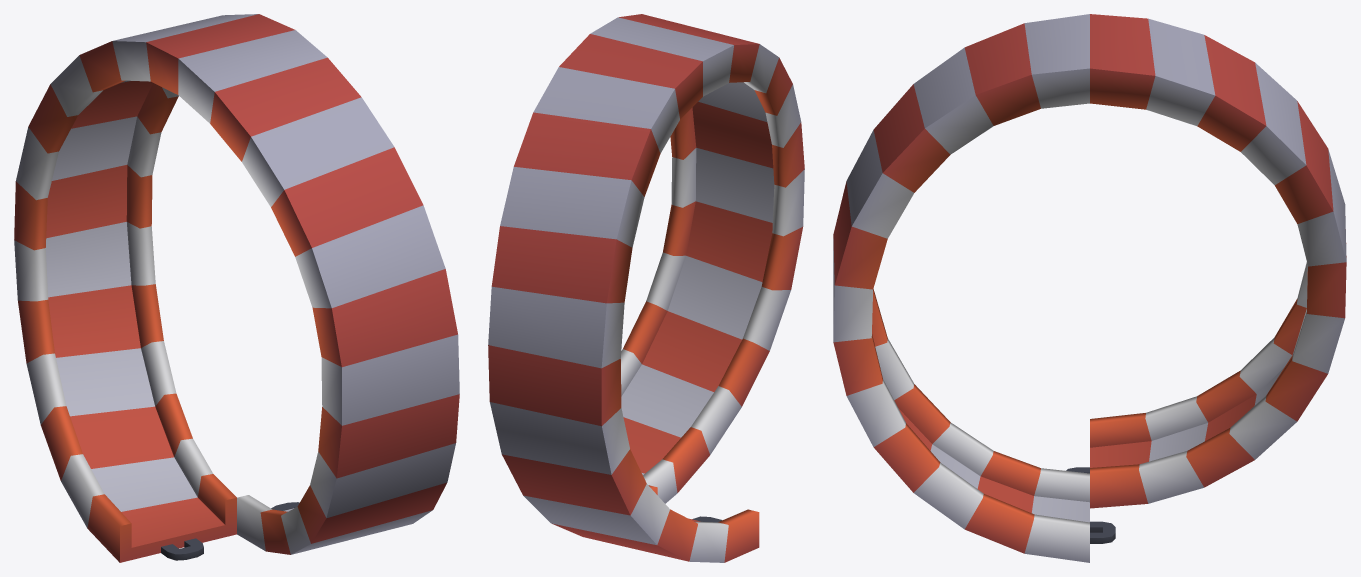
File: track-striped-narrow-looping.glb
3 views of the same model, side by side, from view 1: azimuth 30°, elevation 25°; view 2: azimuth 150°, elevation 25°; view 3: azimuth 270°, elevation 25° (orthographic). The views are drawn at different scales.
Visible parts, largest first — view 1: track-striped-narrow-looping; view 2: track-striped-narrow-looping; view 3: track-striped-narrow-looping.
Boxes of the visible parts, x1,y1,x2,y2 form: track-striped-narrow-looping: [14, 14, 459, 562]; track-striped-narrow-looping: [488, 14, 804, 562]; track-striped-narrow-looping: [833, 14, 1346, 562].
Bounding box in the file's own units: 2 × 4 × 3.98.
